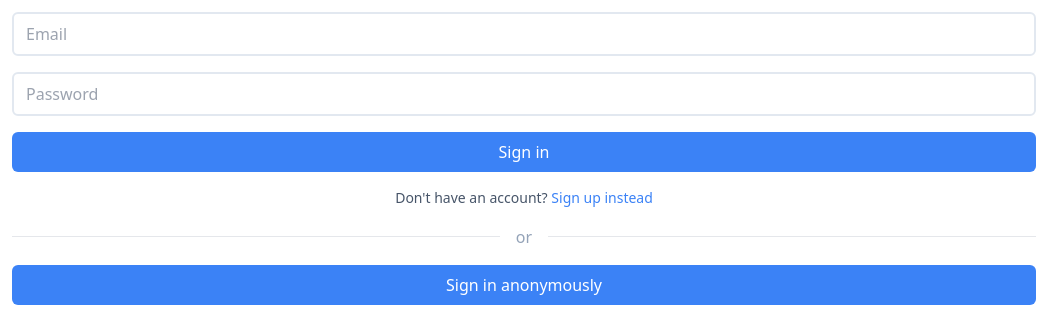
SignInForm › toggles between sign in and sign up
Expected: the button "Sign in" is shown, 12,132 -> 1036,172
Click the button "Sign up instead": (602, 198) 551,188 -> 653,208
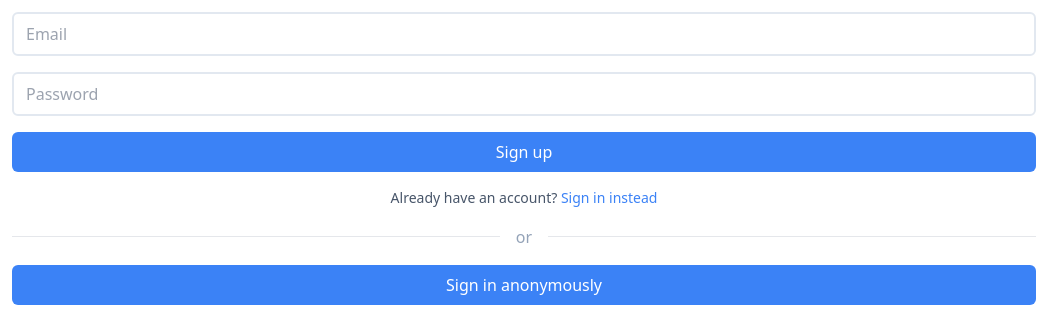
Expected: the button "Sign up" is shown, 12,132 -> 1036,172
Click the button "Sign in instead": (609, 198) 561,188 -> 657,208
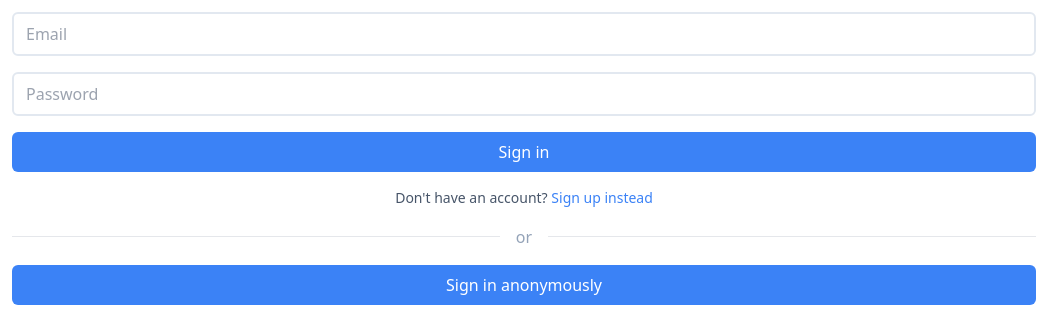
Expected: the button "Sign in" is shown, 12,132 -> 1036,172
